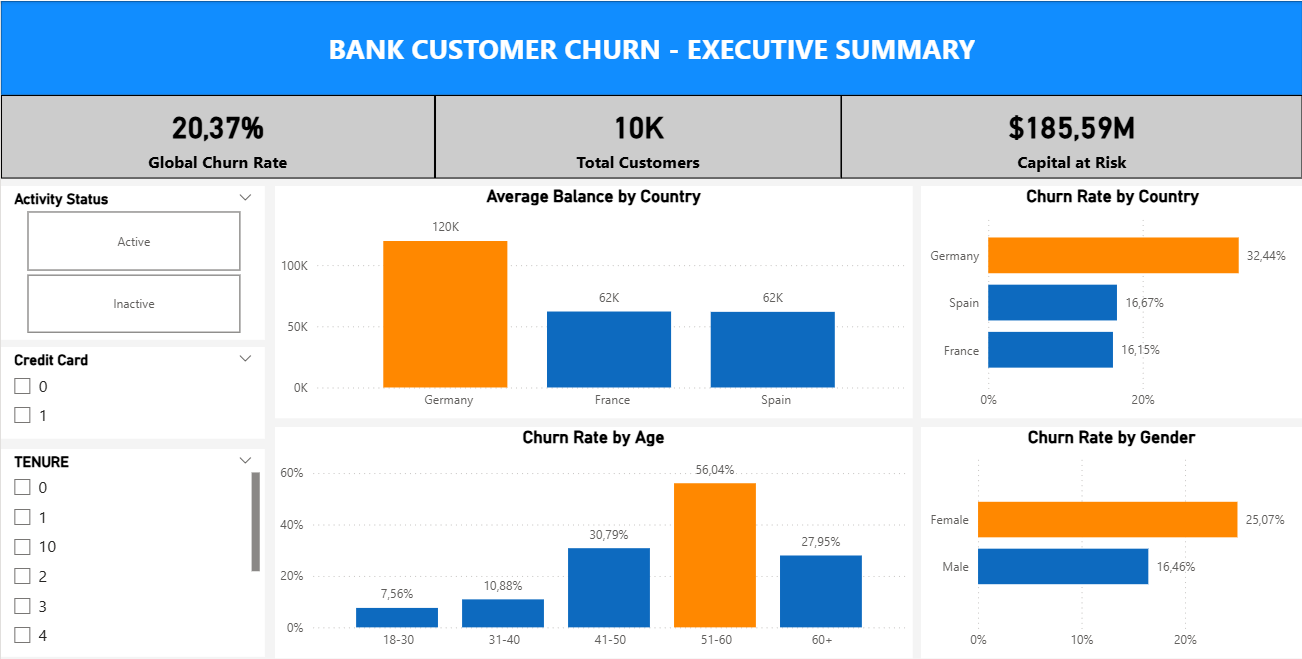

The page's visual inventory and layout, read from the dashboard file:
{"tool":"powerbi","page":{"name":"Página 1","canvas":[1280,720],"ordinal":0},"visuals":[{"type":"card","fields":{"Values":["bank_churn_processed.Global Churn Rate"]},"box":[0,92.2,425.6,82.2],"z":0},{"type":"clusteredBarChart","title":"Churn Rate by Country","fields":{"Category":["bank_churn_processed.GEOGRAPHY"],"Y":["bank_churn_processed.Global Churn Rate"]},"box":[903.3,181.1,376.7,227.8],"z":1000},{"type":"clusteredColumnChart","title":"Churn Rate by Age","fields":{"Category":["bank_churn_processed.AGE_GROUP"],"Y":["bank_churn_processed.Global Churn Rate"]},"box":[268.9,417.8,625.6,226.7],"z":2000},{"type":"slicer","fields":{"Values":["bank_churn_processed.IS_ACTIVE_MEMBER_STATUS"]},"box":[0,181.1,258.9,151.1],"z":3000},{"type":"shape","title":"Bank ","box":[0,0,1277.8,92.2],"z":4000},{"type":"card","fields":{"Values":["bank_churn_processed.Total Customers"]},"box":[425.6,92.2,398.9,82.2],"z":5000},{"type":"card","fields":{"Values":["bank_churn_processed.Capital at Risk"]},"box":[824.4,92.2,453.3,82.2],"z":6000},{"type":"clusteredColumnChart","title":"Average Balance by Country","fields":{"Category":["bank_churn_processed.GEOGRAPHY"],"Y":["bank_churn_processed.Avg Balance"]},"box":[268.9,181.1,625.6,227.8],"z":7000},{"type":"slicer","fields":{"Values":["bank_churn_processed.HAS_CR_CARD"]},"box":[0,340,258.9,90],"z":8000},{"type":"slicer","fields":{"Values":["bank_churn_processed.TENURE"]},"box":[0,440,258.9,204.4],"z":9000},{"type":"clusteredBarChart","title":"Churn Rate by Gender","fields":{"Category":["bank_churn_processed.GENDER"],"Y":["bank_churn_processed.Global Churn Rate"]},"box":[903.3,417.8,374.4,226.7],"z":10000}]}

Visuals, with their boxes on the page's 1280x720 design canvas (x1, y1, x2, y2). These are canvas units, not pixel positions in the 1302x659 screenshot, which may show the page scaled, cropped or inside an application window:
card - bank_churn_processed.Global Churn Rate: (x1=0, y1=92, x2=426, y2=174)
"Churn Rate by Country" clusteredBarChart: (x1=903, y1=181, x2=1280, y2=409)
"Churn Rate by Age" clusteredColumnChart: (x1=269, y1=418, x2=894, y2=644)
slicer - bank_churn_processed.IS_ACTIVE_MEMBER_STATUS: (x1=0, y1=181, x2=259, y2=332)
"Bank " shape: (x1=0, y1=0, x2=1278, y2=92)
card - bank_churn_processed.Total Customers: (x1=426, y1=92, x2=824, y2=174)
card - bank_churn_processed.Capital at Risk: (x1=824, y1=92, x2=1278, y2=174)
"Average Balance by Country" clusteredColumnChart: (x1=269, y1=181, x2=894, y2=409)
slicer - bank_churn_processed.HAS_CR_CARD: (x1=0, y1=340, x2=259, y2=430)
slicer - bank_churn_processed.TENURE: (x1=0, y1=440, x2=259, y2=644)
"Churn Rate by Gender" clusteredBarChart: (x1=903, y1=418, x2=1278, y2=644)
